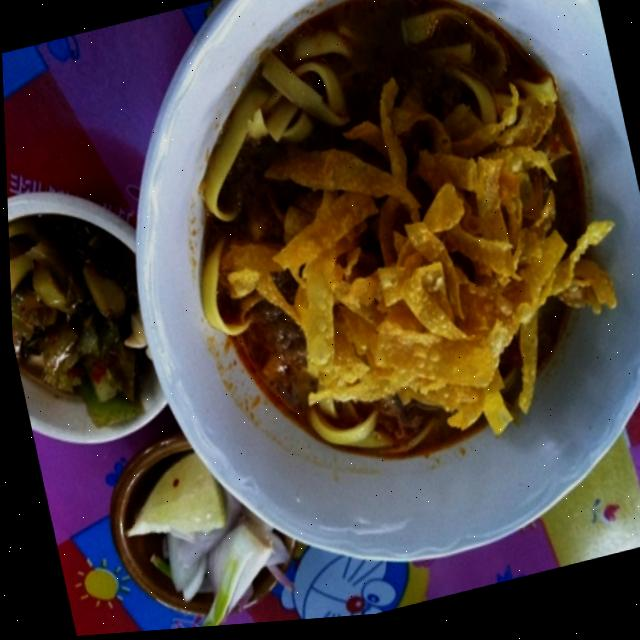面条主食: (94, 0, 640, 626)
